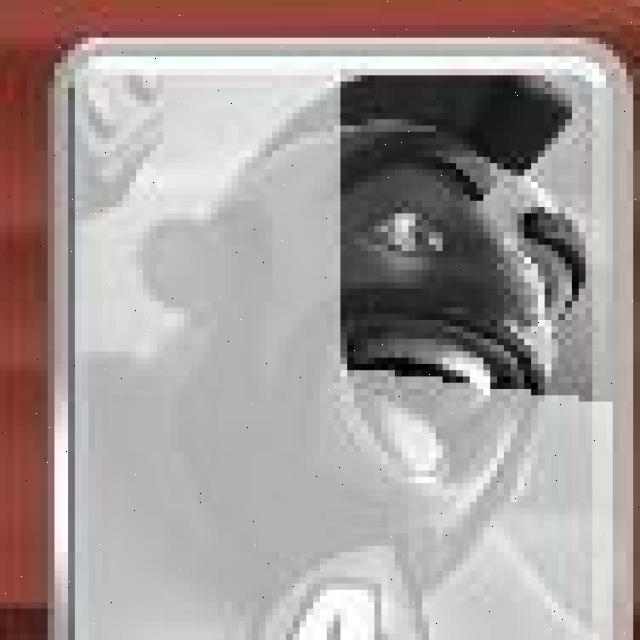Hog_Rider: (55, 36, 634, 640)
